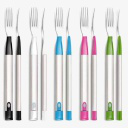Fork: (76, 4, 93, 120), (103, 3, 119, 123), (50, 3, 65, 125), (1, 4, 16, 120), (27, 6, 41, 124)
